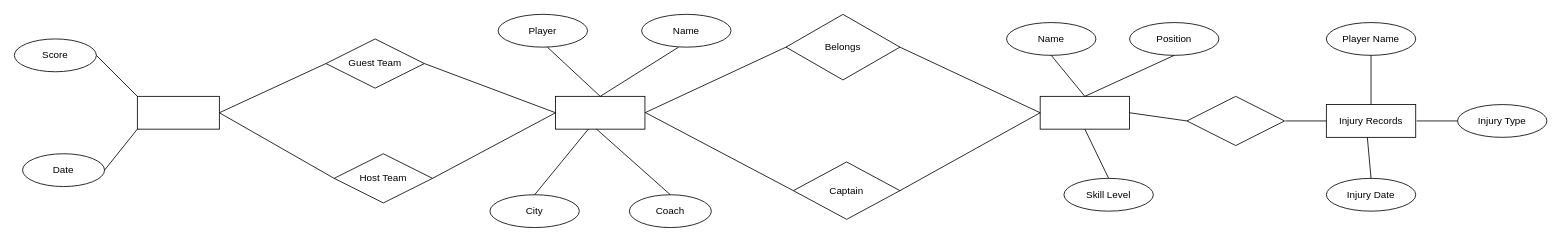
Some shapes in this 1561 by 242 pixel diagram are drawn without their labels. Here are the shapes that lost their labels. From the top down, the centre of each, then its label:
At [178,112]: "Game".
At [600,112]: "Teams".
At [1084,112]: "Players".
At [1235,121]: "Has".
